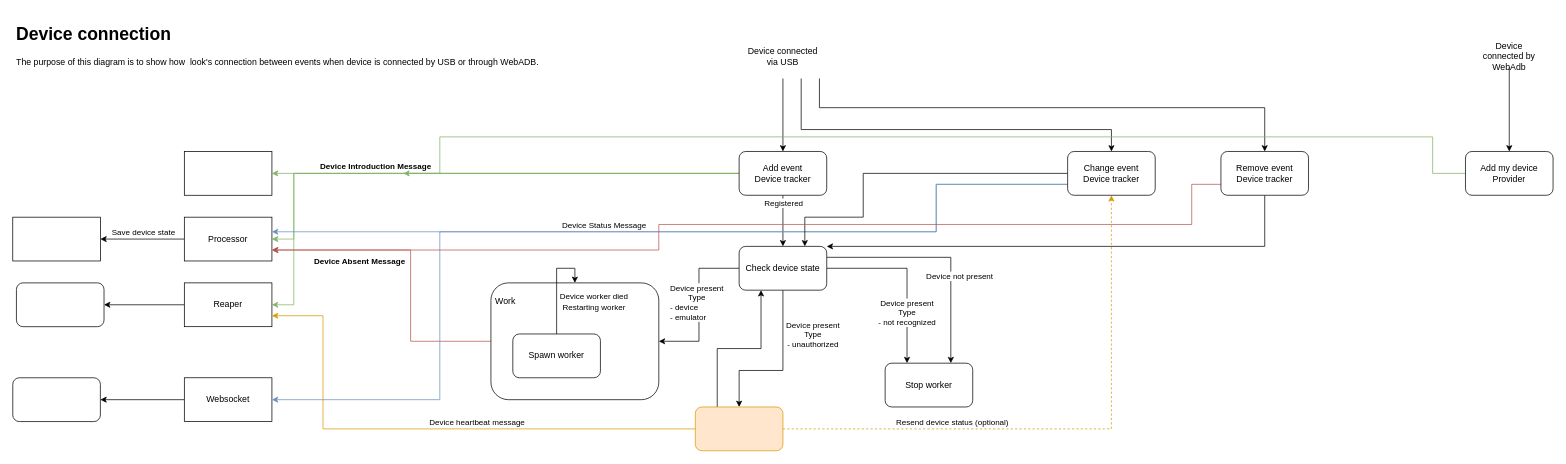
Some shapes in this 1566 by 464 pixel diagram are drawn without their labels. Each missing label, with the centre of its shape:
"Autoproviders" goes at point 228,173.
"Bump timeout" goes at point 60,304.
"DB" goes at point 56,238.
"UI status event" goes at point 56,399.
"Unauthorized" goes at point 739,428.
